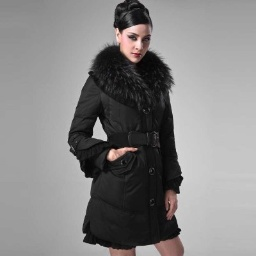face: (107, 1, 160, 64)
